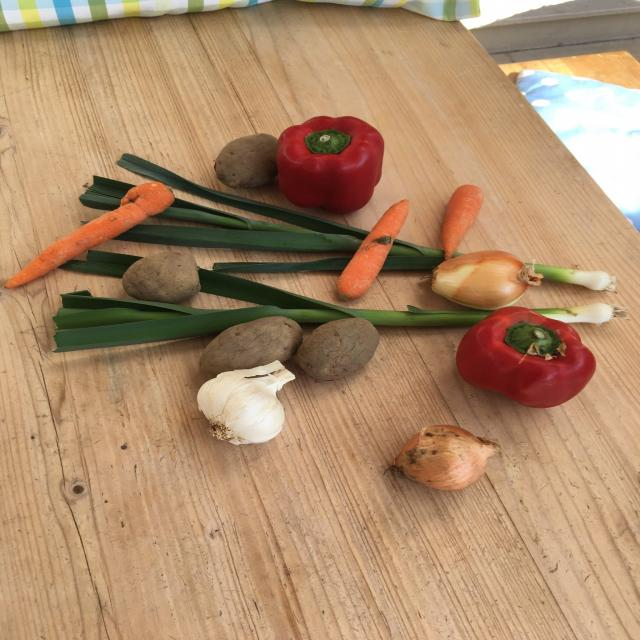Carrot: (0, 178, 172, 295), (334, 196, 414, 302), (435, 179, 487, 262)
Potato: (193, 308, 309, 379), (294, 313, 388, 385), (112, 250, 208, 305), (208, 128, 286, 193)
